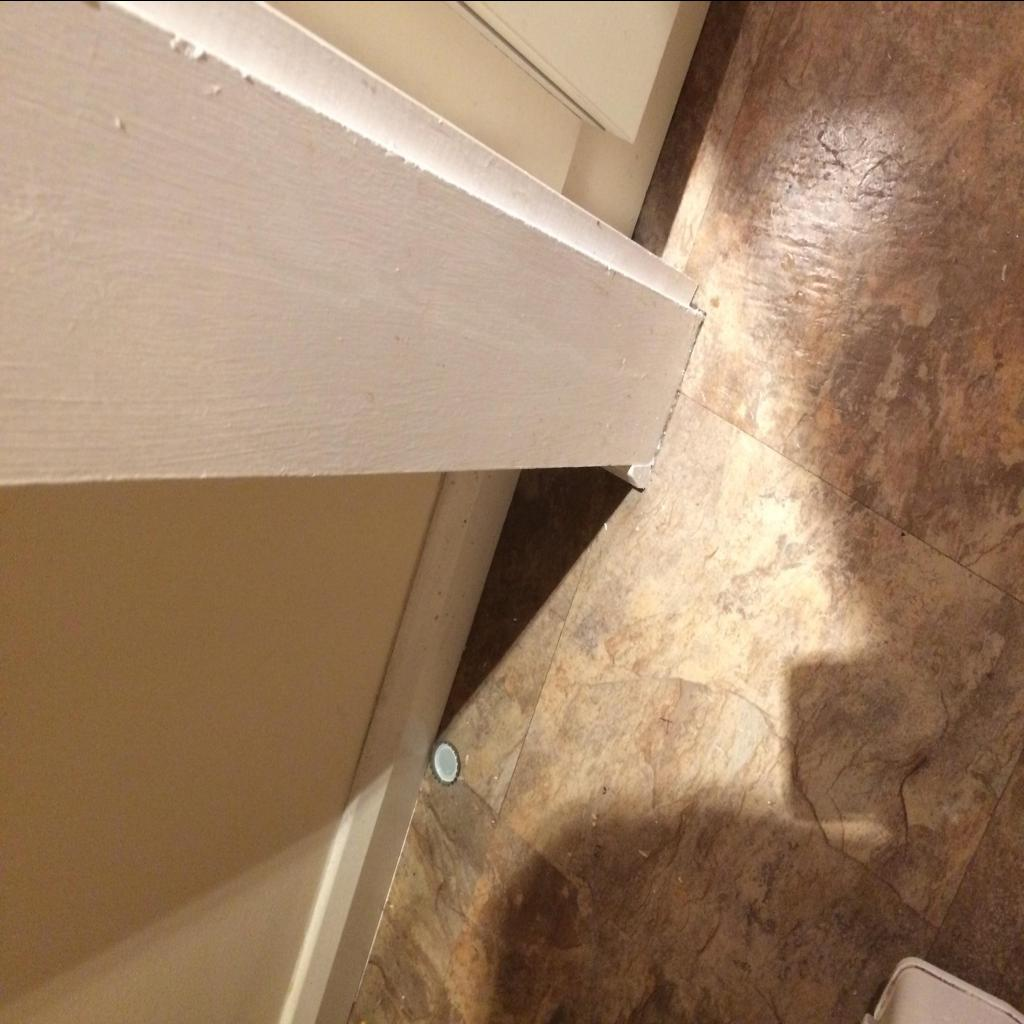Metal bottle cap: (430, 740, 460, 786)
